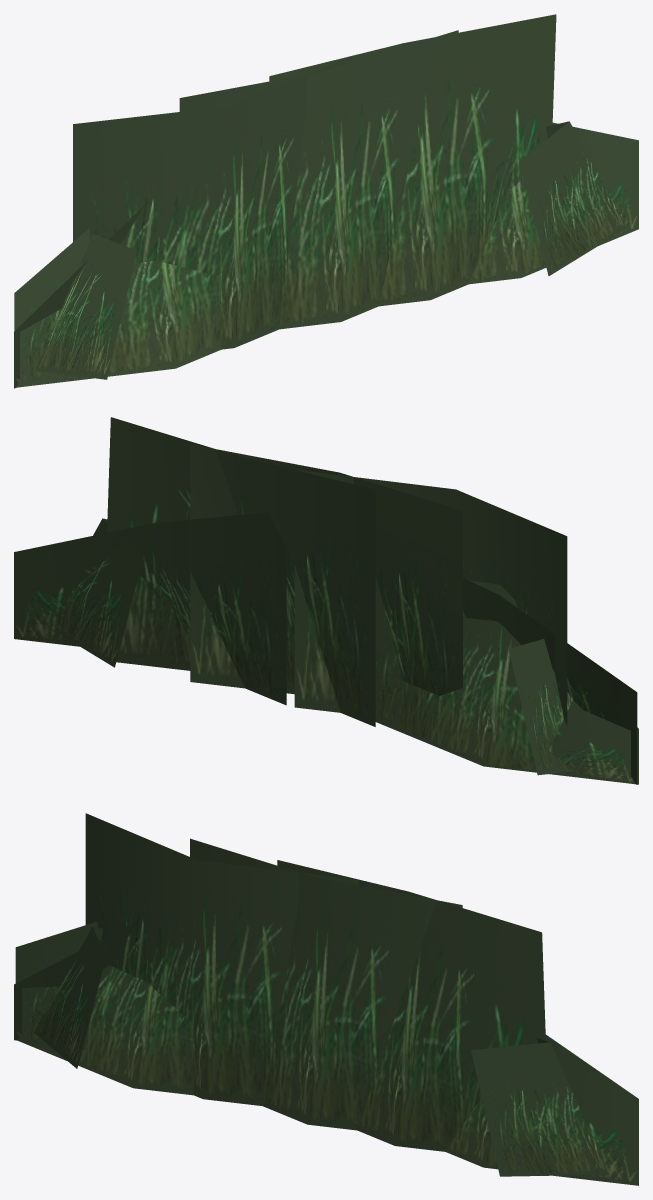
The model's file is grass_8feet.fbx.
3 views of the same model, one above another, from view 1: azimuth 30°, elevation 25°; view 2: azimuth 150°, elevation 25°; view 3: azimuth 330°, elevation 25° (orthographic). The views are drawn at different scales.
Visible parts, largest first — view 1: grass_8ft_02, grass_8ft_04, grass_8ft_03, grass_8ft_01, grass_8ft_08, grass_8ft_07, grass_8ft_05, grass_8ft_06; view 2: grass_8ft_04, grass_8ft_05, grass_8ft_03, grass_8ft_06, grass_8ft_02, grass_8ft_01, grass_8ft_08, grass_8ft_07; view 3: grass_8ft_02, grass_8ft_03, grass_8ft_04, grass_8ft_01, grass_8ft_08, grass_8ft_05, grass_8ft_07, grass_8ft_06.
Part boxes in pixels (bbox=[...]): grass_8ft_02: bbox=[73, 56, 351, 349]; grass_8ft_04: bbox=[269, 14, 556, 306]; grass_8ft_03: bbox=[179, 30, 458, 329]; grass_8ft_01: bbox=[14, 228, 221, 387]; grass_8ft_08: bbox=[519, 121, 626, 275]; grass_8ft_07: bbox=[35, 232, 136, 379]; grass_8ft_05: bbox=[469, 122, 638, 284]; grass_8ft_06: bbox=[14, 204, 145, 388]; grass_8ft_04: bbox=[106, 417, 375, 726]; grass_8ft_05: bbox=[14, 512, 286, 705]; grass_8ft_03: bbox=[190, 444, 462, 695]; grass_8ft_06: bbox=[375, 576, 638, 784]; grass_8ft_02: bbox=[294, 470, 567, 725]; grass_8ft_01: bbox=[375, 536, 637, 784]; grass_8ft_08: bbox=[60, 518, 143, 667]; grass_8ft_07: bbox=[508, 639, 573, 775]; grass_8ft_02: bbox=[85, 813, 358, 1105]; grass_8ft_03: bbox=[190, 838, 462, 1130]; grass_8ft_04: bbox=[277, 860, 545, 1151]; grass_8ft_01: bbox=[15, 921, 193, 1095]; grass_8ft_08: bbox=[471, 1038, 608, 1176]; grass_8ft_05: bbox=[445, 1034, 638, 1185]; grass_8ft_07: bbox=[34, 926, 105, 1068]; grass_8ft_06: bbox=[14, 921, 137, 1040].
Bounding box in the file's own units: 834 × 307 × 92.62.
Materials: 1 (1 with a texture image).
